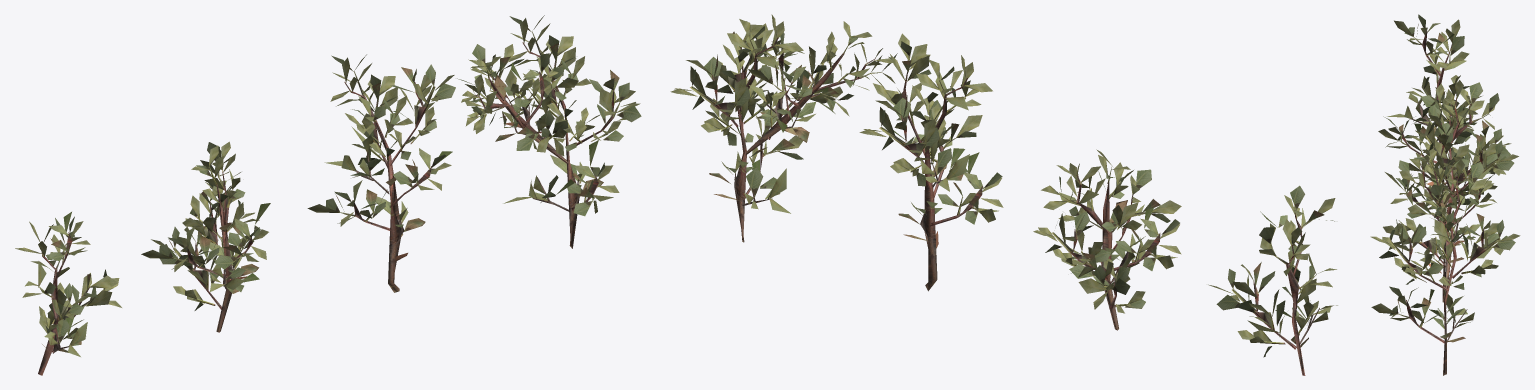
Rendered from shrubB.glb.
3 views of the same model, side by side, from view 1: azimuth 30°, elevation 25°; view 2: azimuth 150°, elevation 25°; view 3: azimuth 270°, elevation 25° (orthographic). The views are drawn at different scales.
Parts seen in each view (by area): view 1: shrub_04; view 2: shrub_04; view 3: shrub_04.
Boxes of the visible parts, x1=… form: shrub_04: x1=15, y1=15, x2=641, y2=375; shrub_04: x1=670, y1=14, x2=1337, y2=375; shrub_04: x1=1370, y1=14, x2=1520, y2=375.
Size of the model in its own units: 0.5832 by 0.2212 by 0.1457.
Materials: 1 (1 with a texture image).
